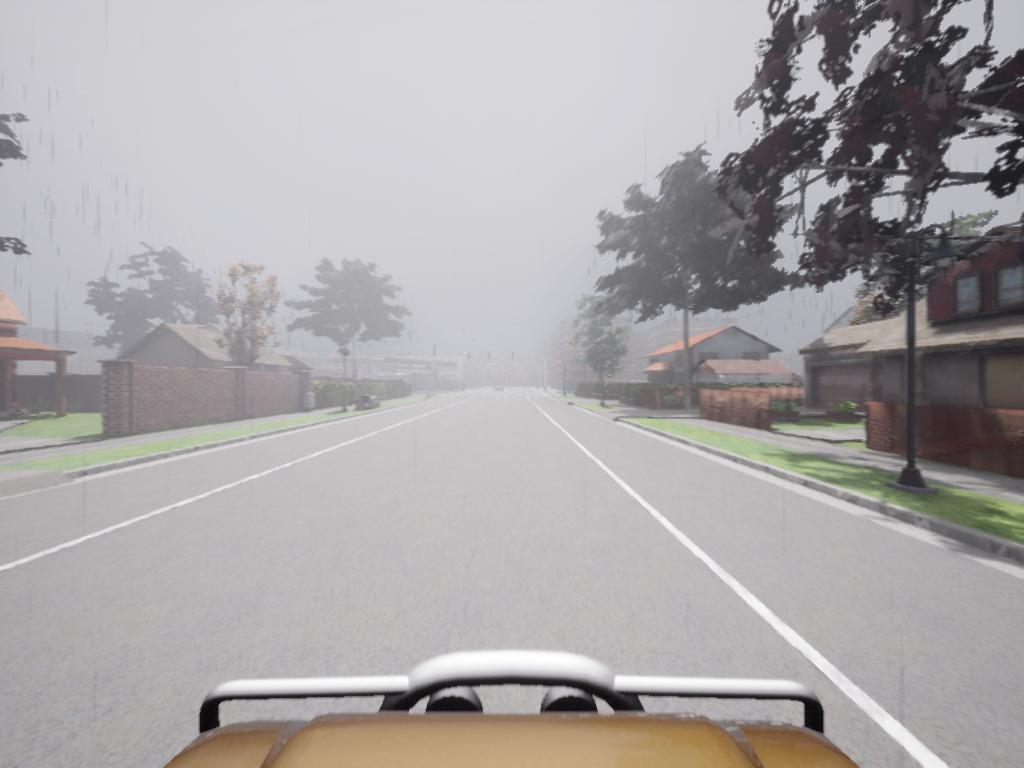traffic_light: (468, 353, 472, 361), (488, 354, 492, 361), (513, 353, 516, 362)
